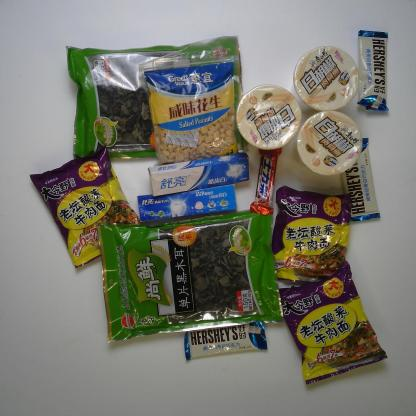Chocolate: (181, 314, 268, 363), (334, 135, 382, 223), (355, 28, 392, 112), (250, 140, 286, 216)
Dried Food: (96, 205, 286, 342), (65, 34, 257, 163)
Dried Fruit: (139, 46, 250, 172)
Instant Noodles: (273, 259, 388, 384), (30, 144, 144, 270), (268, 185, 355, 286), (292, 42, 361, 114), (235, 82, 303, 153), (295, 109, 363, 178)
Personal Hygiene: (148, 150, 252, 198), (137, 181, 241, 222)
